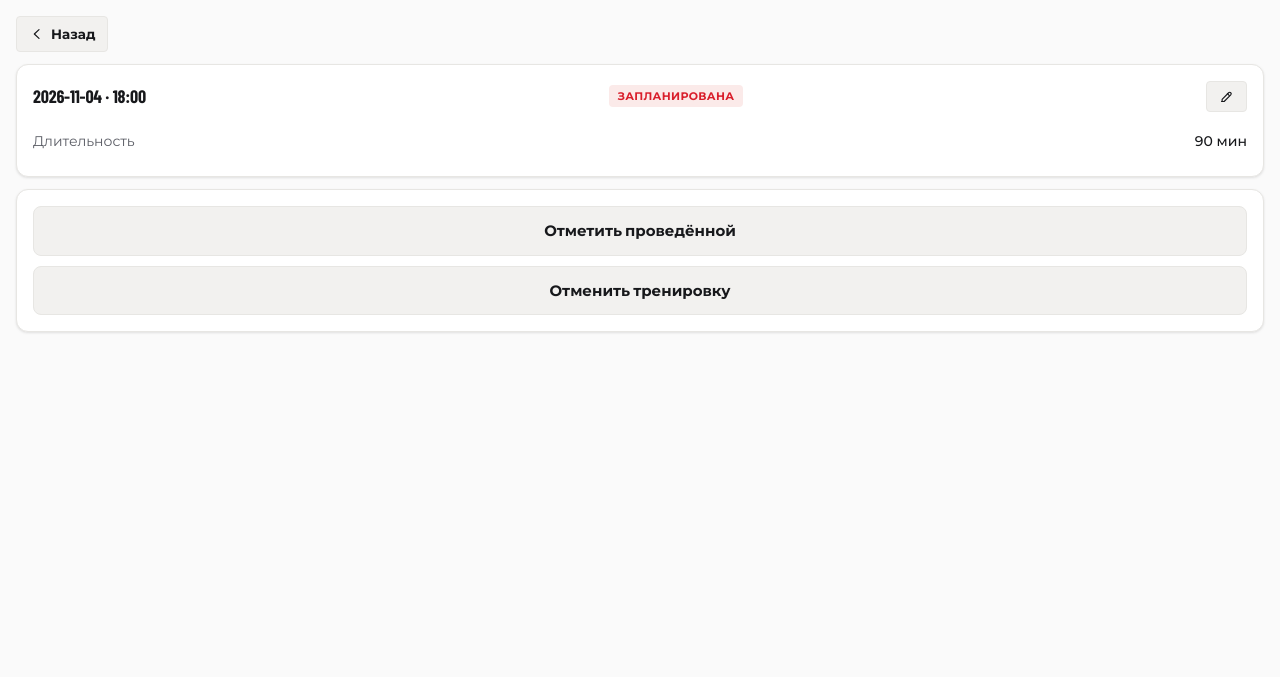
attendance on a team training › appears for the coach right after they press «Отметить проведённой»
Step 1. Click the button "Отметить проведённой" → coordinates (640, 231), box x1=33 y1=206 x2=1247 y2=256
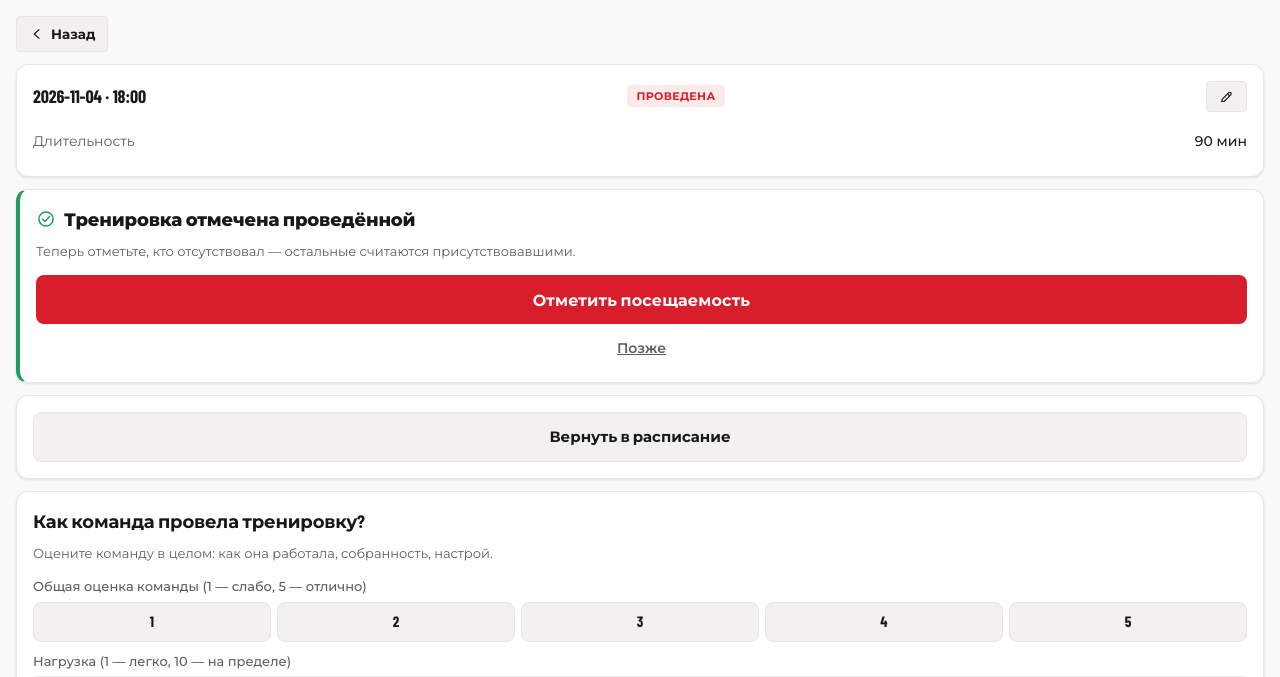
Check: the button "Отметить посещаемость" is shown, box x1=36 y1=275 x2=1247 y2=324
